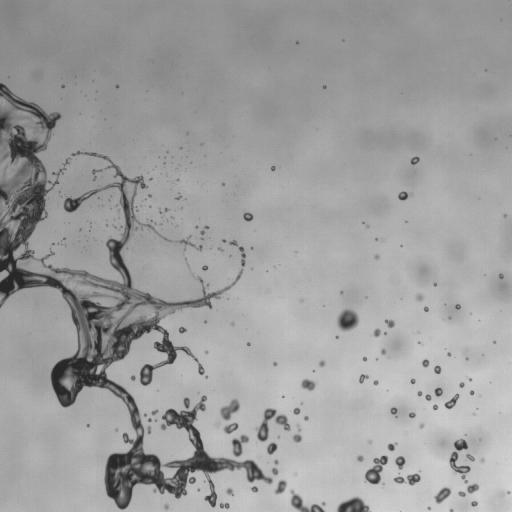droplet: (255, 408, 290, 441), (336, 309, 359, 331), (220, 398, 240, 420), (231, 434, 249, 456), (434, 487, 451, 503), (274, 479, 287, 494), (301, 379, 316, 391), (223, 422, 238, 433), (395, 456, 405, 469), (398, 191, 412, 200), (267, 442, 277, 454), (467, 483, 479, 493), (243, 212, 253, 221), (359, 374, 368, 383), (387, 442, 396, 451), (410, 156, 419, 164), (385, 319, 394, 327), (434, 387, 442, 396), (293, 434, 302, 442), (158, 208, 168, 215), (373, 328, 380, 337), (422, 359, 429, 367), (434, 365, 441, 373), (390, 407, 397, 415), (466, 454, 474, 461), (250, 485, 258, 492), (219, 503, 229, 508), (416, 294, 423, 301), (293, 407, 300, 414), (226, 488, 233, 495), (179, 327, 186, 333), (272, 468, 278, 475), (458, 491, 465, 497), (319, 360, 325, 366), (425, 394, 431, 400), (357, 455, 363, 461), (151, 409, 158, 414), (433, 404, 438, 410), (409, 412, 415, 417), (471, 501, 477, 506), (176, 194, 181, 199), (374, 254, 379, 259), (202, 265, 207, 270), (455, 304, 460, 309), (373, 380, 378, 385), (459, 382, 464, 387), (218, 247, 223, 251), (499, 273, 503, 278), (424, 306, 428, 311), (381, 349, 385, 354), (131, 375, 135, 380), (410, 379, 415, 383), (417, 391, 422, 395), (470, 390, 474, 395), (419, 423, 423, 428), (480, 458, 484, 463), (164, 504, 168, 509), (271, 166, 275, 170), (304, 416, 308, 420), (216, 422, 220, 426), (274, 460, 278, 464), (297, 425, 300, 430), (362, 357, 366, 360), (273, 362, 277, 365), (93, 177, 96, 180), (175, 179, 178, 182), (221, 183, 224, 186), (222, 239, 225, 242), (231, 322, 234, 325), (247, 342, 250, 345), (447, 353, 450, 356), (148, 418, 151, 421), (506, 491, 509, 494), (449, 509, 453, 511), (323, 86, 326, 88), (433, 283, 436, 285), (368, 441, 371, 443), (116, 85, 118, 87), (113, 225, 115, 227), (366, 225, 368, 227), (375, 238, 377, 240), (250, 247, 252, 249), (340, 291, 342, 293), (205, 351, 207, 353), (144, 414, 146, 416), (428, 507, 430, 509)
ligament: (0, 82, 270, 507), (449, 438, 470, 483), (290, 489, 325, 511), (364, 455, 387, 484), (336, 496, 370, 511), (230, 240, 245, 266), (394, 473, 420, 485), (444, 393, 459, 409), (200, 225, 208, 235), (92, 169, 101, 175), (185, 260, 190, 268)
